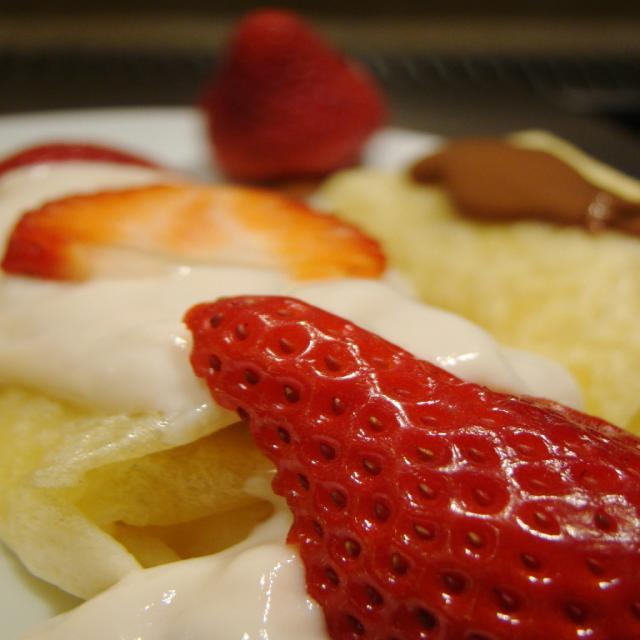Strawberry: (165, 275, 617, 637), (7, 180, 392, 282), (203, 6, 387, 191)
